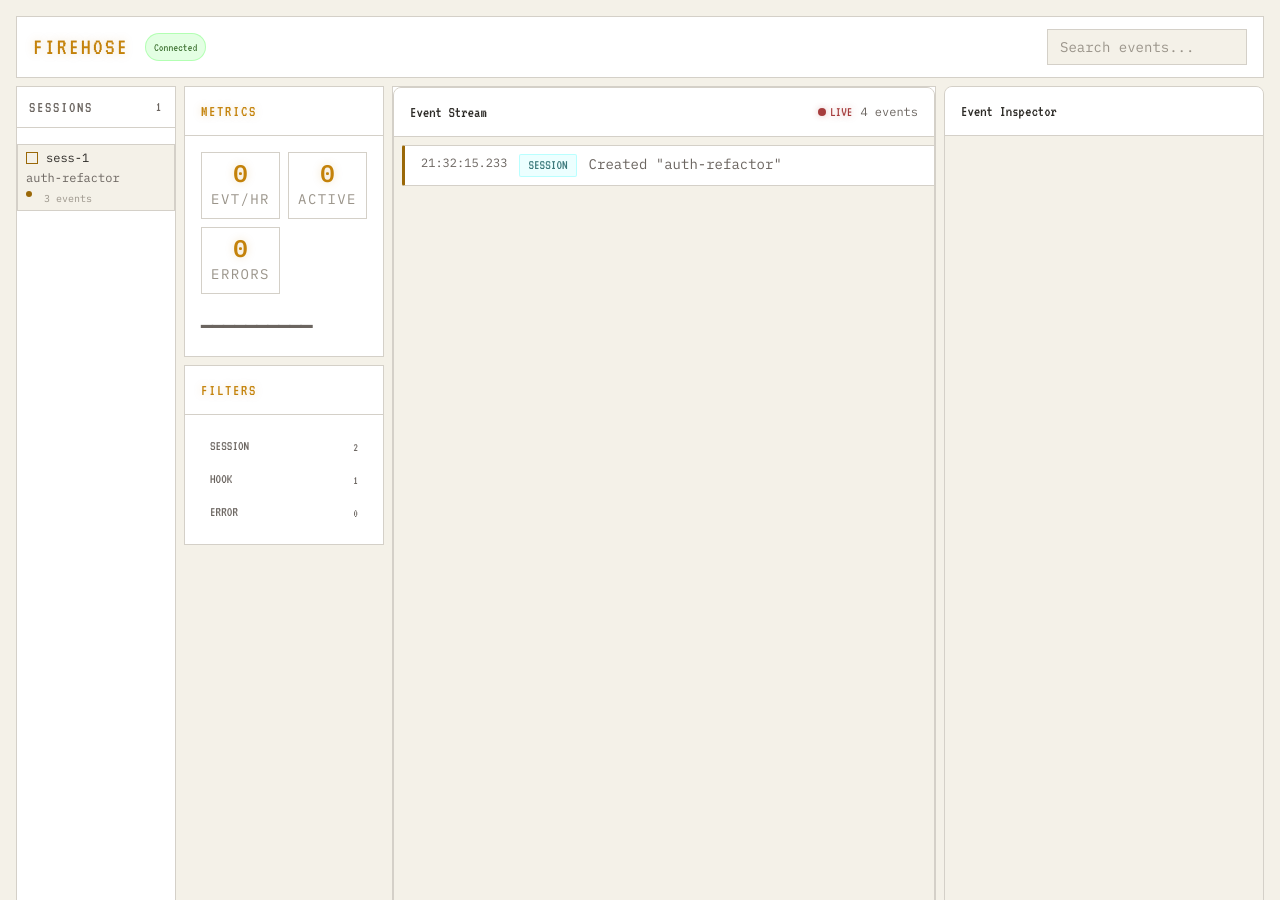
Test: FirehosePage › search input filters events by content
Expected: the text "auth-refactor" is shown, [26,170,120,185]
# Type a search query that should match only the claude event
Type "analyze" into the field with placeholder "Search events..." at (1147, 47), box [1047,29,1247,65]
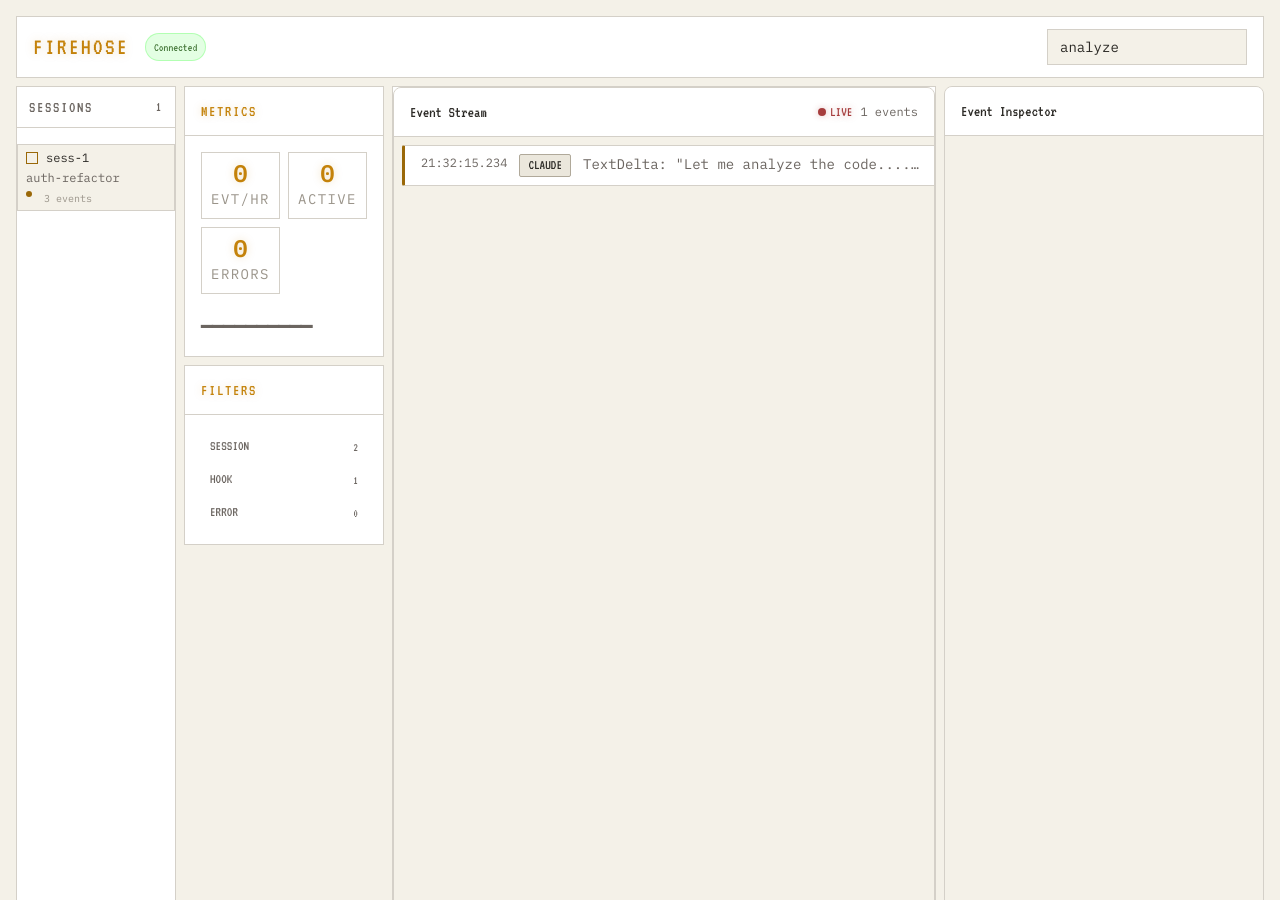
Expected: the text "TextDelta: \"Let me analyze the code......\"" is shown, [583,154,925,177]
Now the text "Created \"auth-refactor\"" is gone
